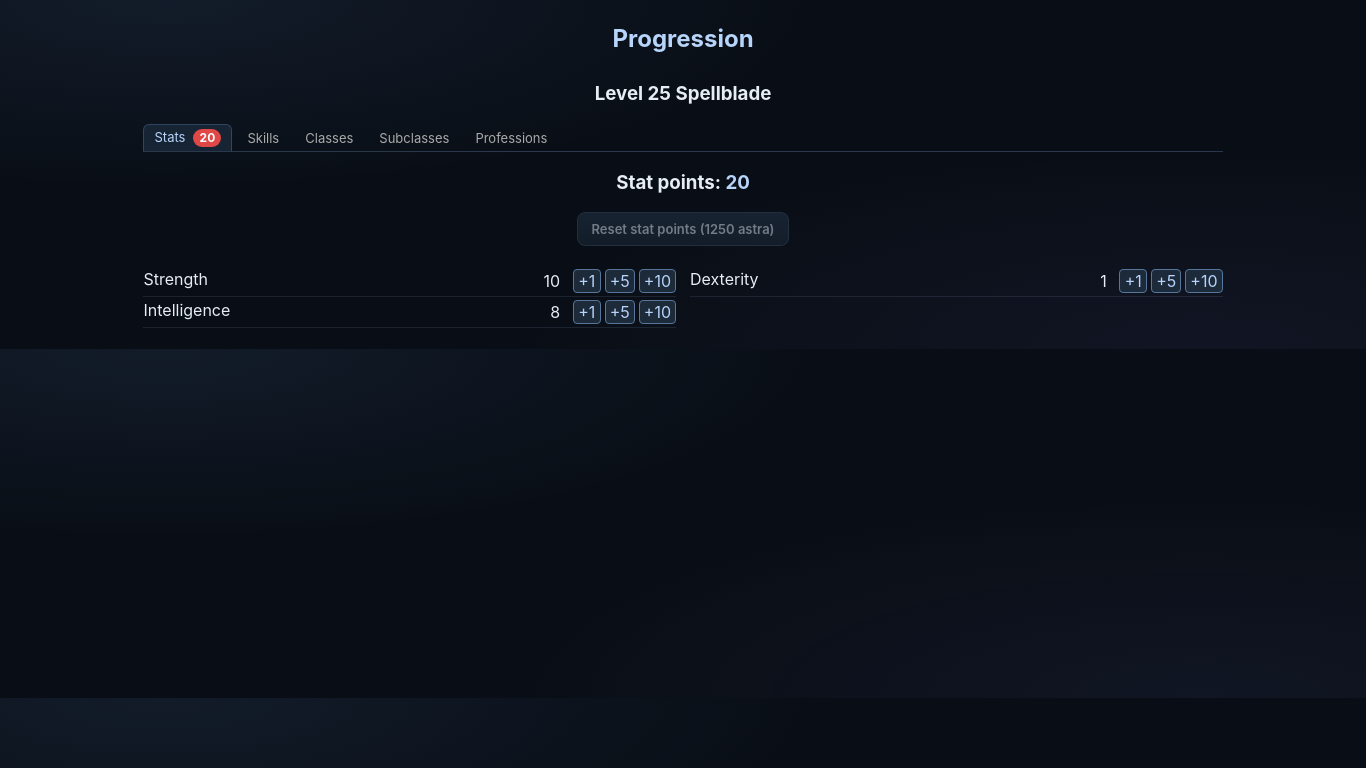
stat allocation shows a class preview before committing and refreshes the displayed class on confirmation
Click the button named "Add 10 Strength": x=657, y=281 [639,269,676,293]
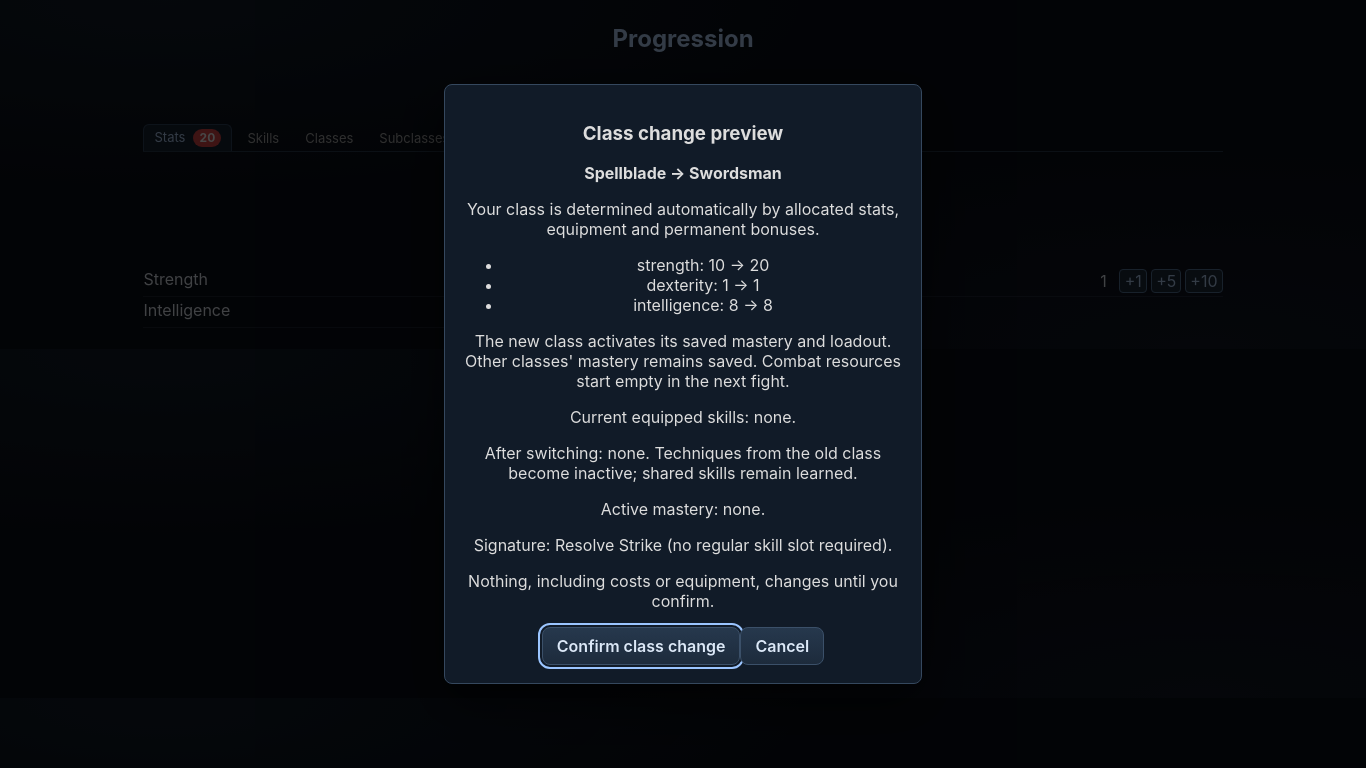
Result: the dialog "Class change preview" is shown at [444,84,922,684]
Click the button "Confirm class change": x=641, y=646 [542,627,740,665]
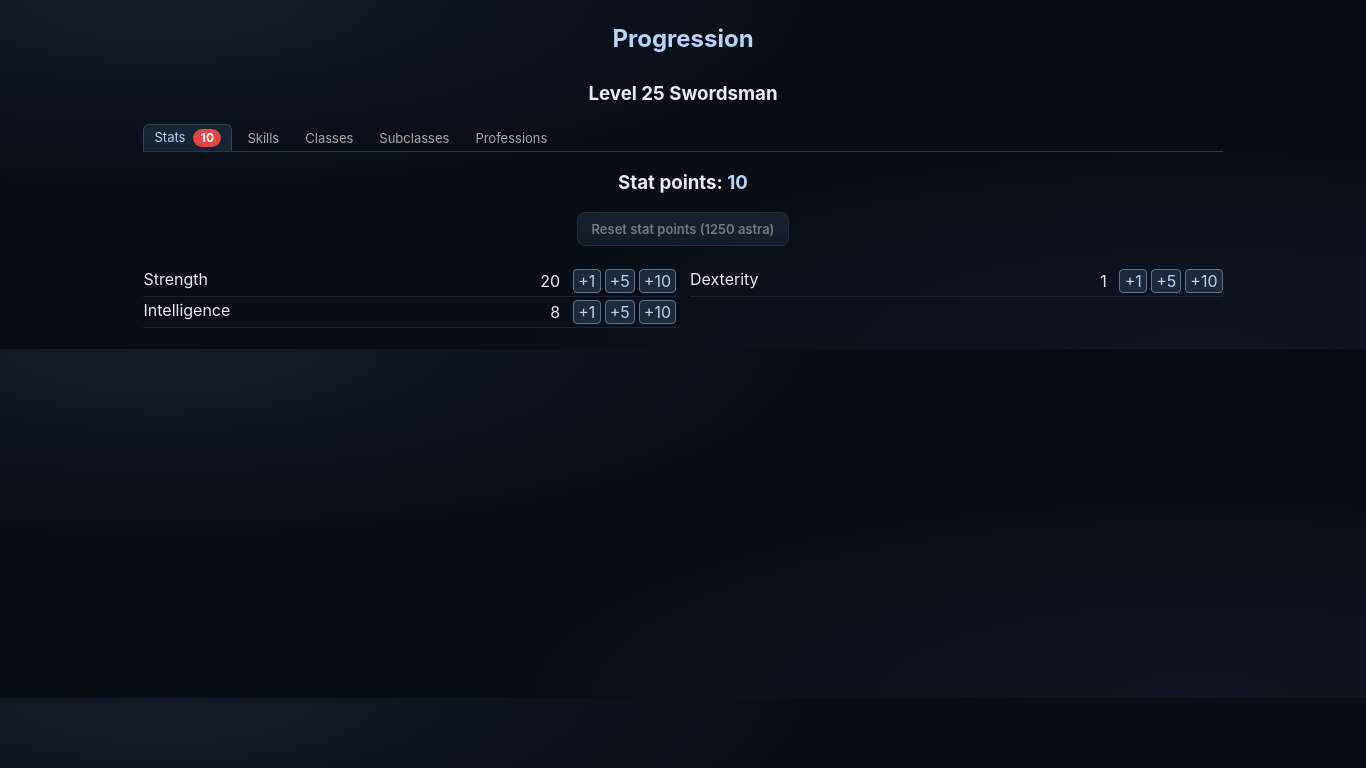
Result: the heading "Level 25 Swordsman" is shown at [588,82,778,105]
